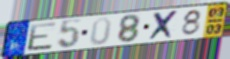0: (88, 17, 113, 47)
5: (58, 18, 83, 50)
8: (116, 13, 142, 44), (179, 9, 202, 37)
E: (26, 21, 59, 53)
X: (147, 9, 181, 42)
